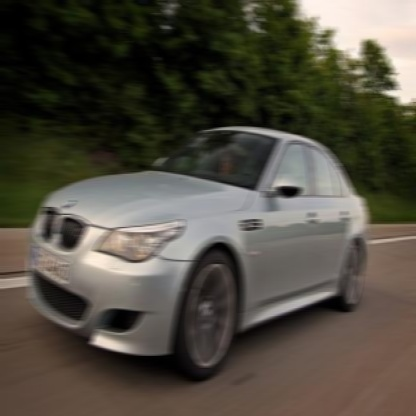Vehicle: (25, 117, 367, 381)
